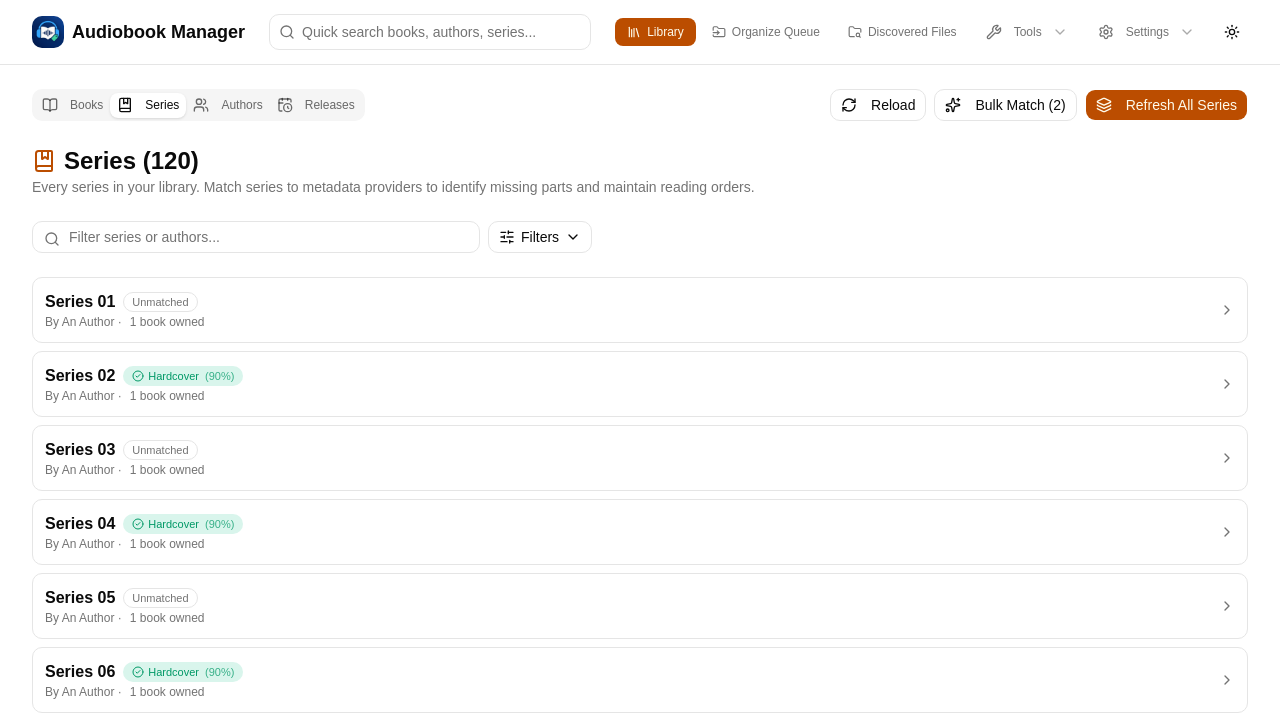
Test: SeriesOverview › does not render a separate Matched boolean filter control
Expected: the text "Series 01" is shown, [45,290,115,314]
Click the button "Filters": [540, 237] box [488,221,592,253]
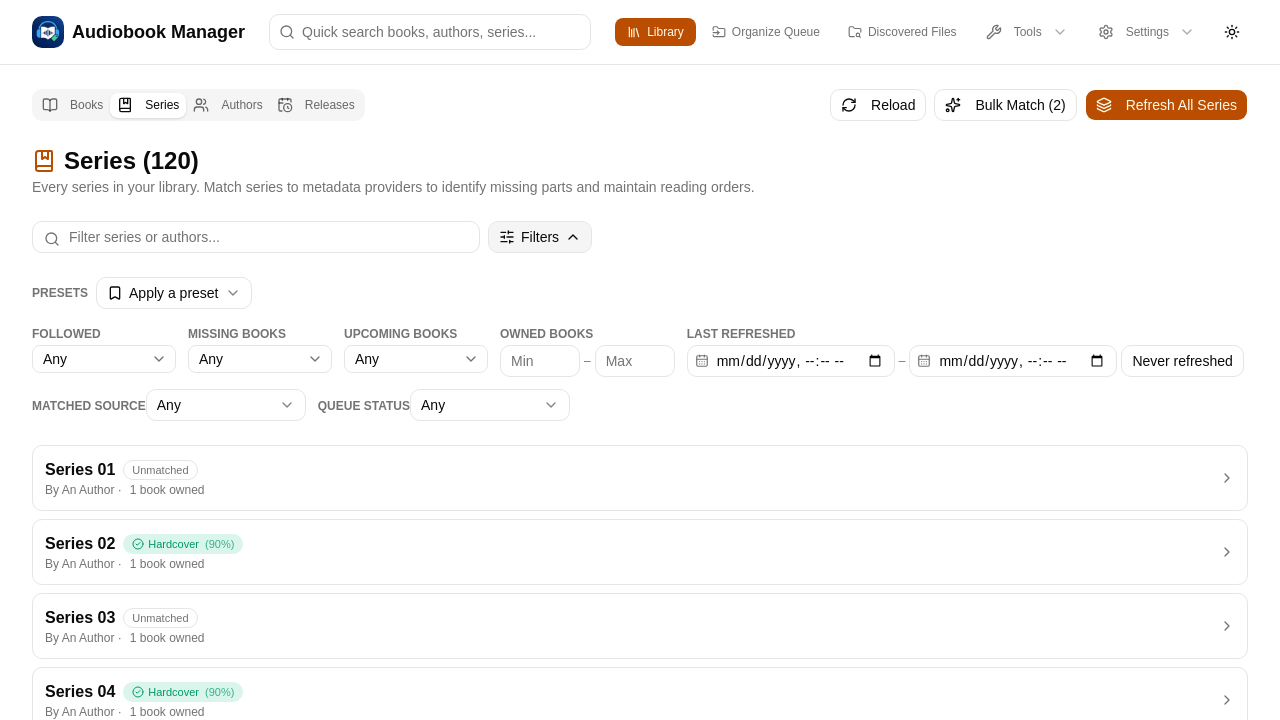
Expected: the dropdown named "Followed" is shown, [32,345,176,373]
